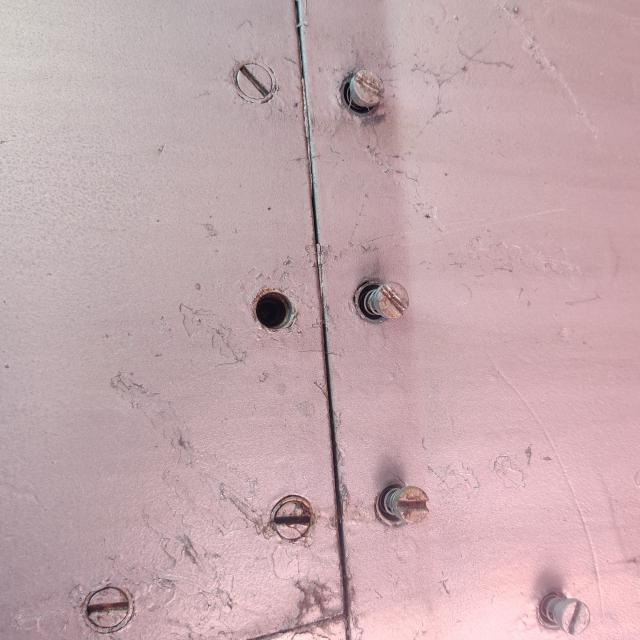missing-head: (282, 215, 384, 320)
